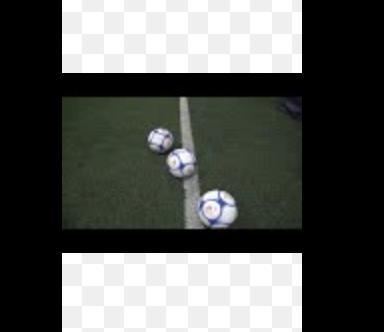Sports-Ball: (198, 191, 238, 228), (166, 149, 196, 177), (148, 128, 174, 154)
